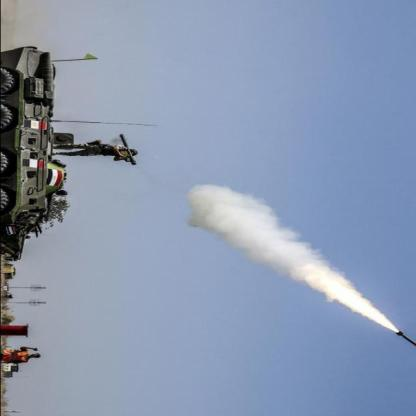MIL_TBM: (394, 326, 416, 346)
